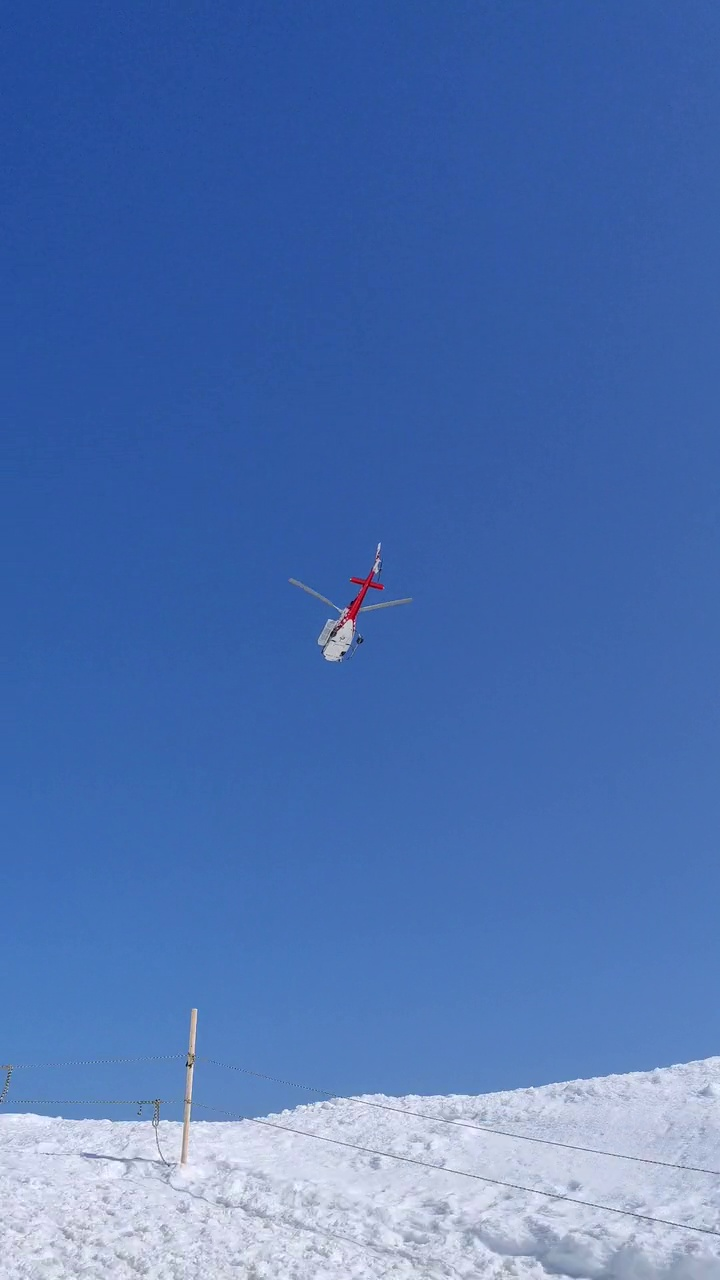heli: (286, 537, 415, 664)
